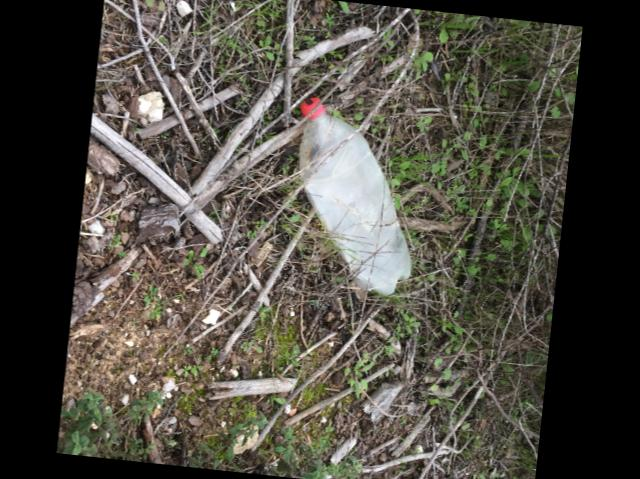plastic: (299, 95, 411, 293)
